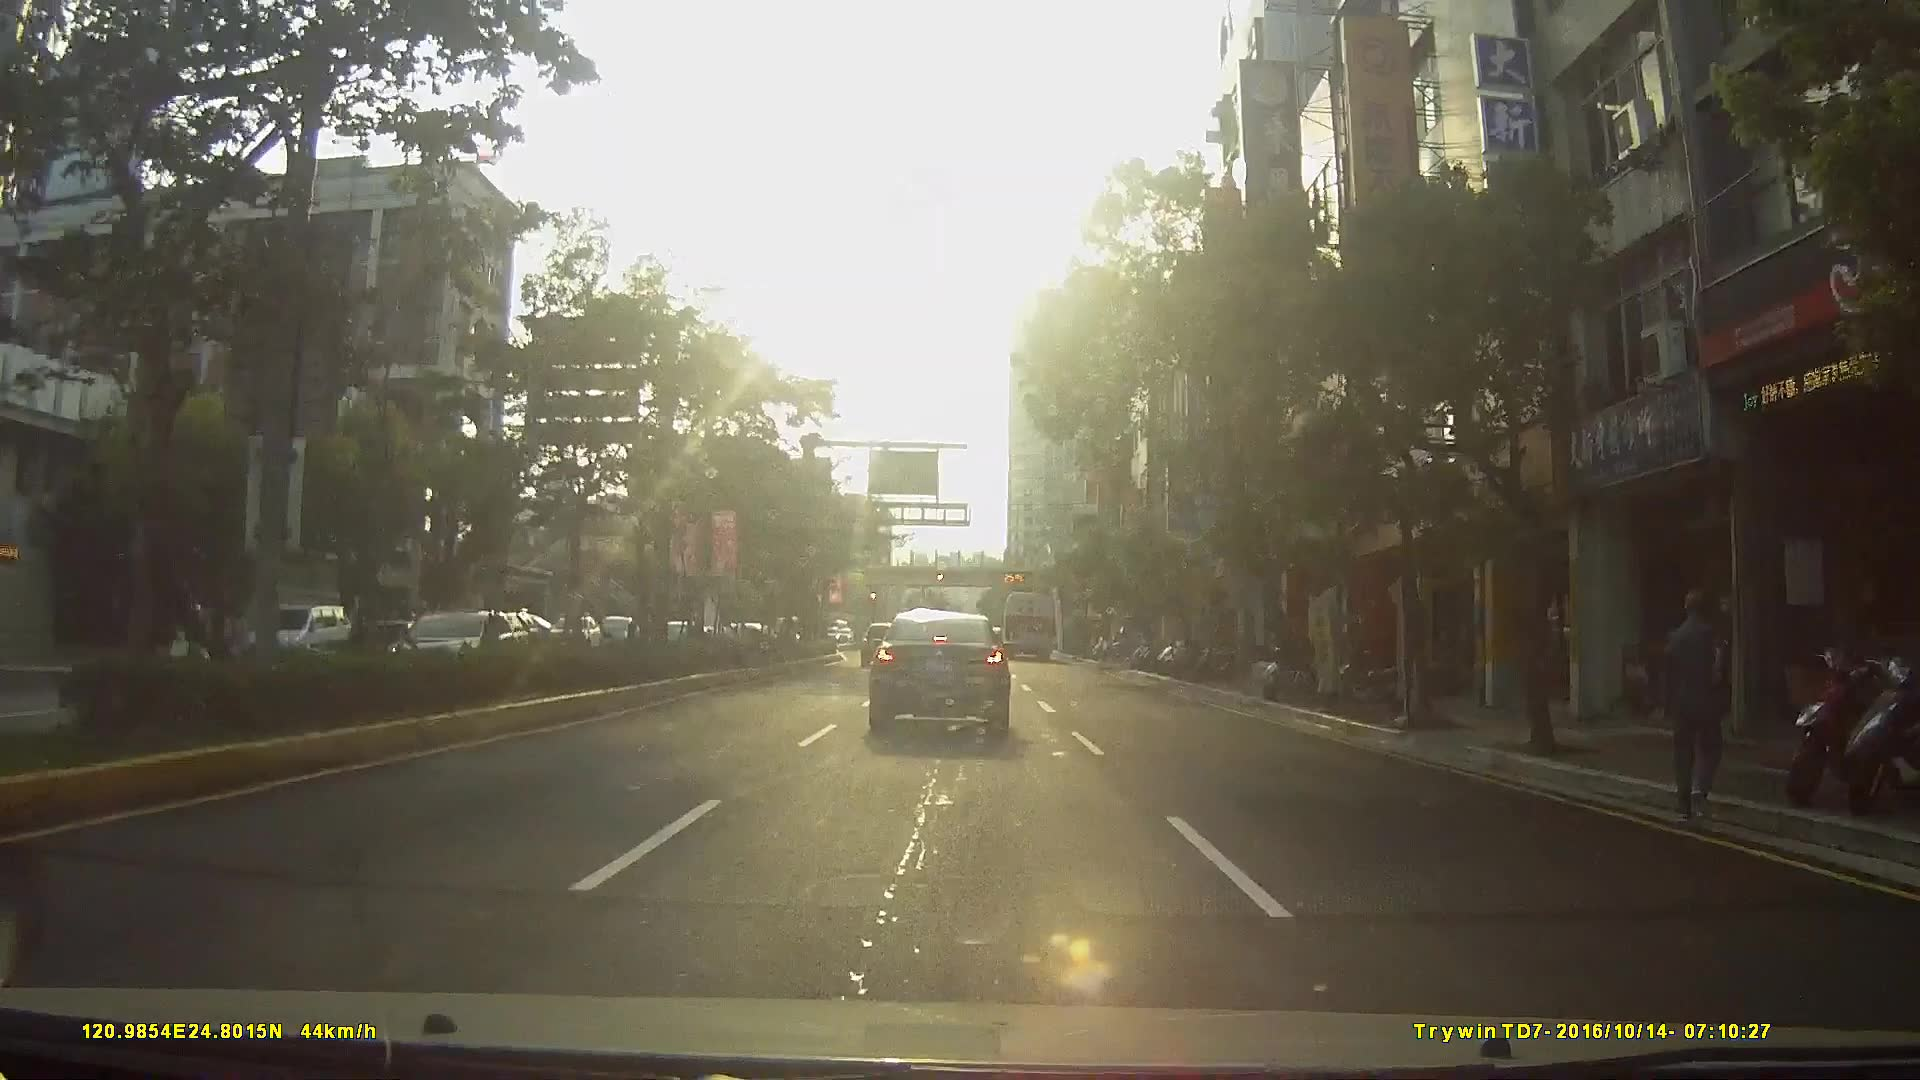pedestrian: (1661, 581, 1734, 826)
vehicle: (865, 604, 1012, 731), (392, 607, 522, 681), (234, 603, 347, 669), (998, 585, 1057, 654), (860, 620, 899, 661)
